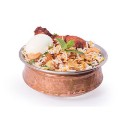briyani: (26, 27, 100, 70)
